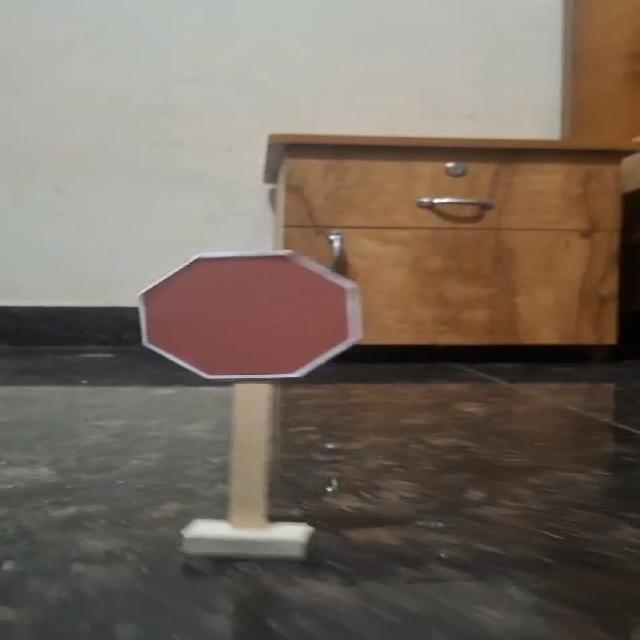Stop: (117, 244, 387, 390)
